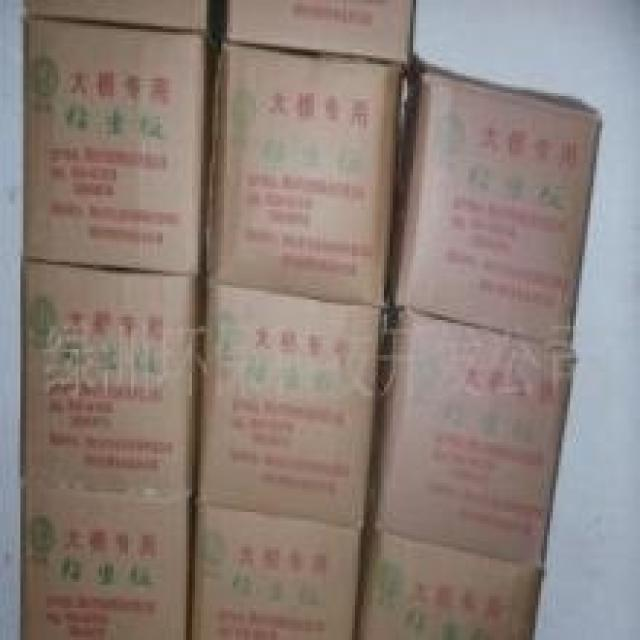box: (387, 61, 602, 349), (204, 35, 410, 305), (367, 308, 576, 573), (20, 15, 221, 276), (189, 273, 387, 529), (20, 256, 204, 506), (20, 483, 189, 637), (186, 503, 367, 640), (358, 532, 544, 640), (221, 0, 416, 58), (20, 0, 224, 35)
